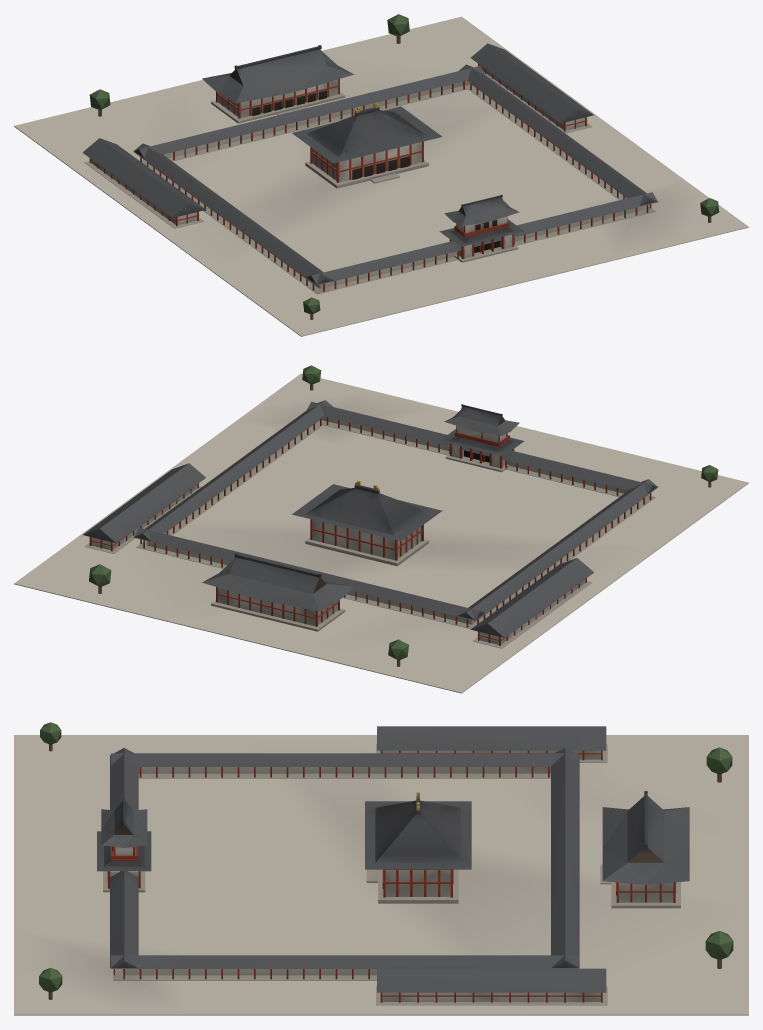
Rendered from daianji.glb.
3 views of the same model, one above another, from view 1: azimuth 30°, elevation 25°; view 2: azimuth 150°, elevation 25°; view 3: azimuth 270°, elevation 25° (orthographic). The views are drawn at different scales.
Visible parts, largest first — view 1: p0_grounds, p1_halls, p2_roofs; view 2: p0_grounds, p1_halls, p2_roofs; view 3: p0_grounds, p1_halls, p2_roofs.
Part boxes in pixels (x1=…): p0_grounds: x1=14, y1=16, x2=748, y2=336; p1_halls: x1=84, y1=64, x2=658, y2=294; p2_roofs: x1=82, y1=14, x2=719, y2=319; p0_grounds: x1=14, y1=373, x2=748, y2=693; p1_halls: x1=84, y1=400, x2=658, y2=648; p2_roofs: x1=83, y1=365, x2=718, y2=666; p0_grounds: x1=14, y1=735, x2=748, y2=1015; p1_halls: x1=103, y1=744, x2=680, y2=1005; p2_roofs: x1=39, y1=722, x2=733, y2=999.
Size of the model in its own units: 180 by 23.52 by 200.
